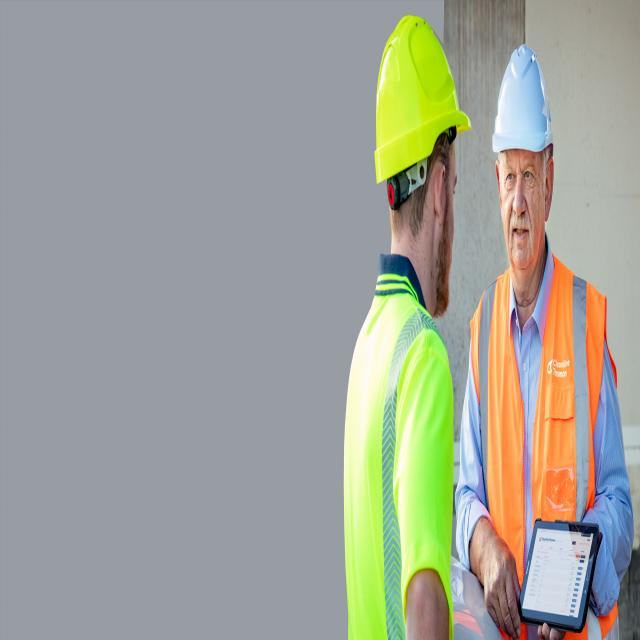Reflective-Jacket: (469, 261, 619, 640), (342, 264, 454, 640)
Safety-Helmet: (372, 11, 471, 188), (491, 40, 556, 162)
